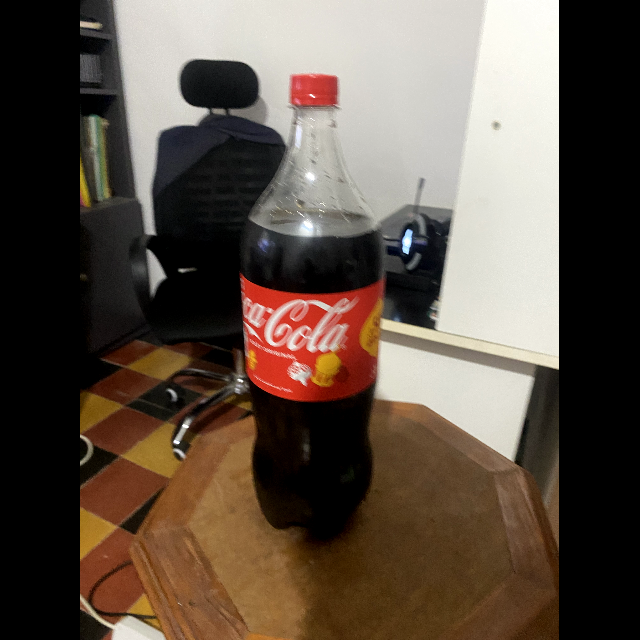coca-cola GB: (239, 74, 384, 531)
